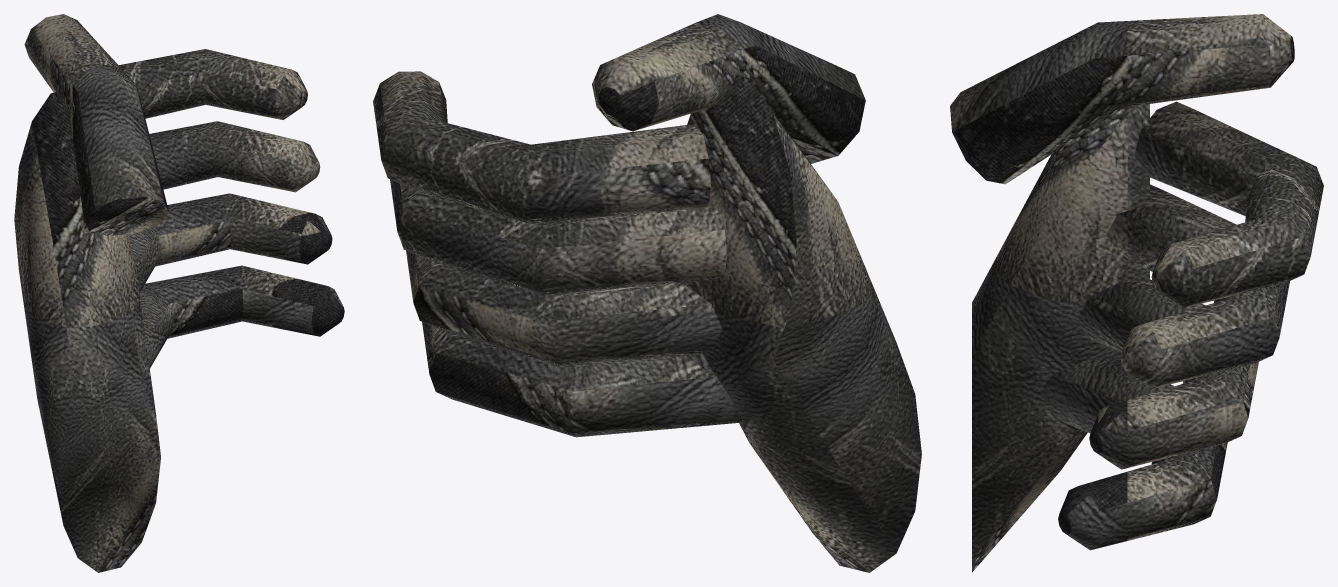
The model's file is hand_pistol_l.glb.
The picture shows the model from 3 angles, left to right: view 1: azimuth 30°, elevation 25°; view 2: azimuth 150°, elevation 25°; view 3: azimuth 270°, elevation 25°; orthographic projection. The views are drawn at different scales.
Parts seen in each view (by area): view 1: palm_p, pthumb, pfinger_3, pfinger_2, pfinger_0, pfinger_1; view 2: palm_p, pfinger_0, pfinger_1, pthumb, pfinger_2, pfinger_3; view 3: palm_p, pthumb, pfinger_0, pfinger_1, pfinger_3, pfinger_2.
Boxes of the visible parts, x1=… form: palm_p: x1=14, y1=91, x2=160, y2=572; pthumb: x1=24, y1=14, x2=168, y2=235; pfinger_3: x1=139, y1=265, x2=344, y2=368; pfinger_2: x1=127, y1=193, x2=332, y2=293; pfinger_0: x1=119, y1=49, x2=307, y2=119; pfinger_1: x1=149, y1=121, x2=320, y2=192; palm_p: x1=680, y1=74, x2=921, y2=572; pfinger_0: x1=373, y1=71, x2=710, y2=223; pfinger_1: x1=390, y1=179, x2=726, y2=294; pthumb: x1=592, y1=14, x2=865, y2=163; pfinger_2: x1=406, y1=250, x2=722, y2=365; pfinger_3: x1=422, y1=322, x2=741, y2=437; palm_p: x1=972, y1=104, x2=1149, y2=572; pthumb: x1=950, y1=14, x2=1294, y2=184; pfinger_0: x1=1135, y1=101, x2=1323, y2=307; pfinger_1: x1=1106, y1=184, x2=1289, y2=388; pfinger_3: x1=1041, y1=357, x2=1227, y2=550; pfinger_2: x1=1077, y1=279, x2=1258, y2=469.
Bounding box in the file's own units: 4.37 × 5.78 × 3.36.
Materials: 1 (1 with a texture image).
